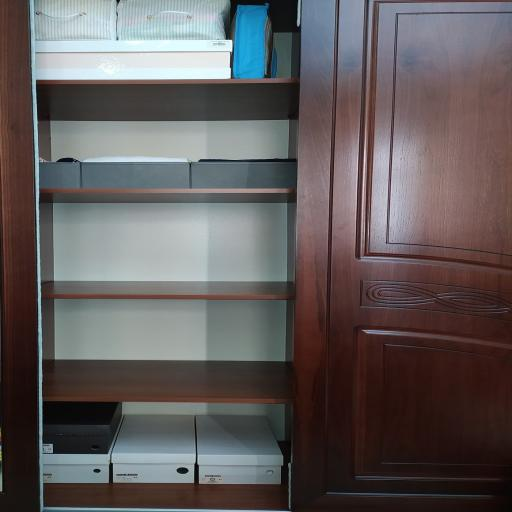car: (0, 0, 512, 512)
road: (28, 0, 301, 512)
